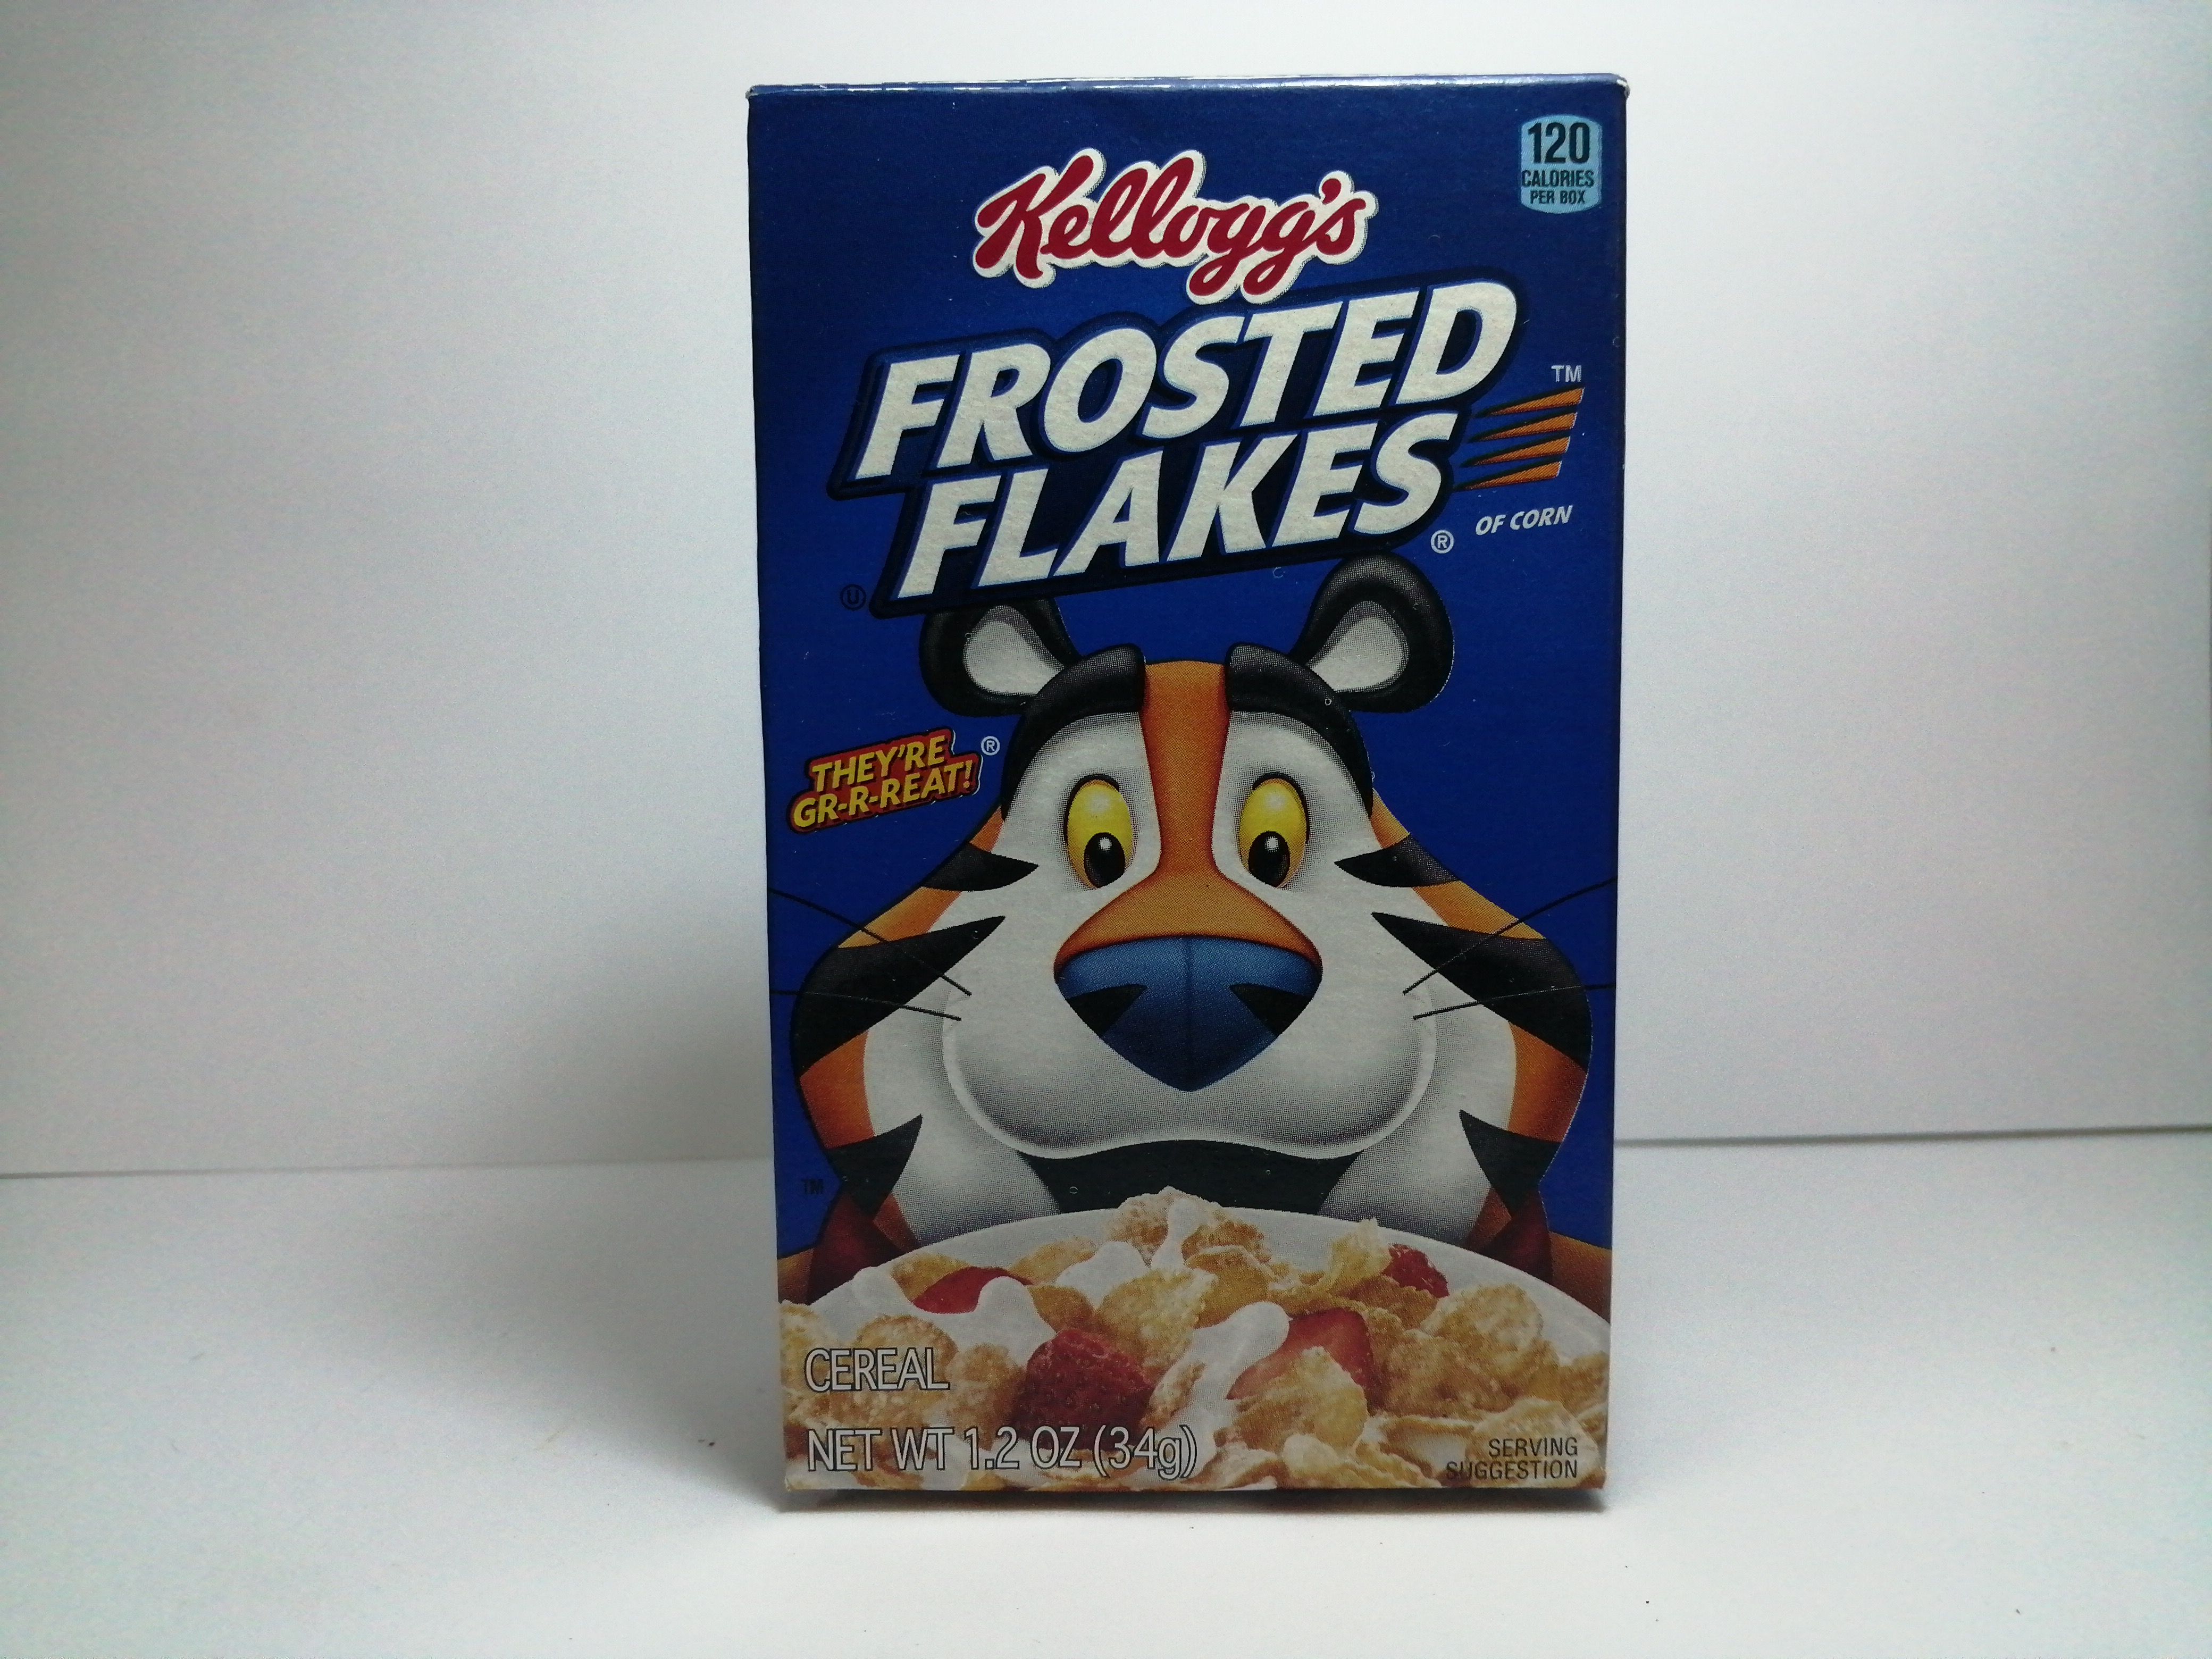cereal azucarado: (719, 45, 1644, 1535)
